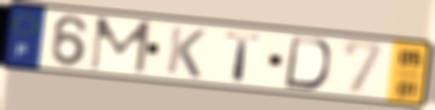6: (50, 15, 91, 68)
7: (340, 39, 388, 98)
D: (281, 35, 333, 92)
K: (163, 24, 208, 80)
M: (86, 16, 154, 76)
T: (223, 31, 264, 84)
